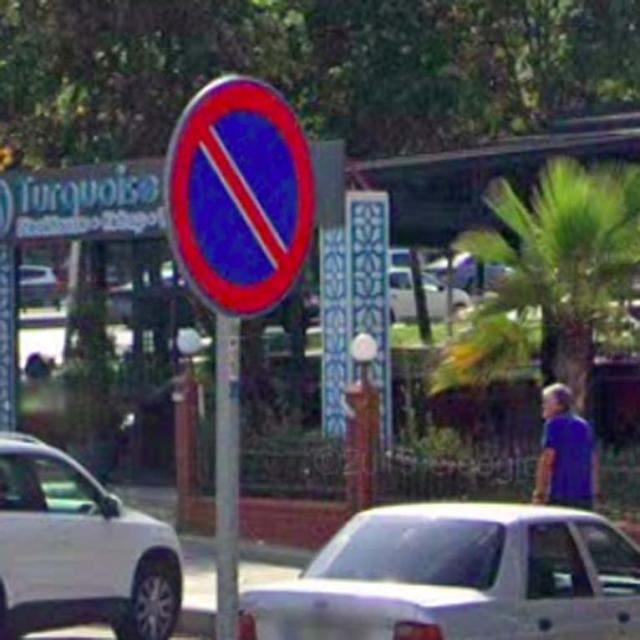parkyasak: (164, 78, 315, 317)
